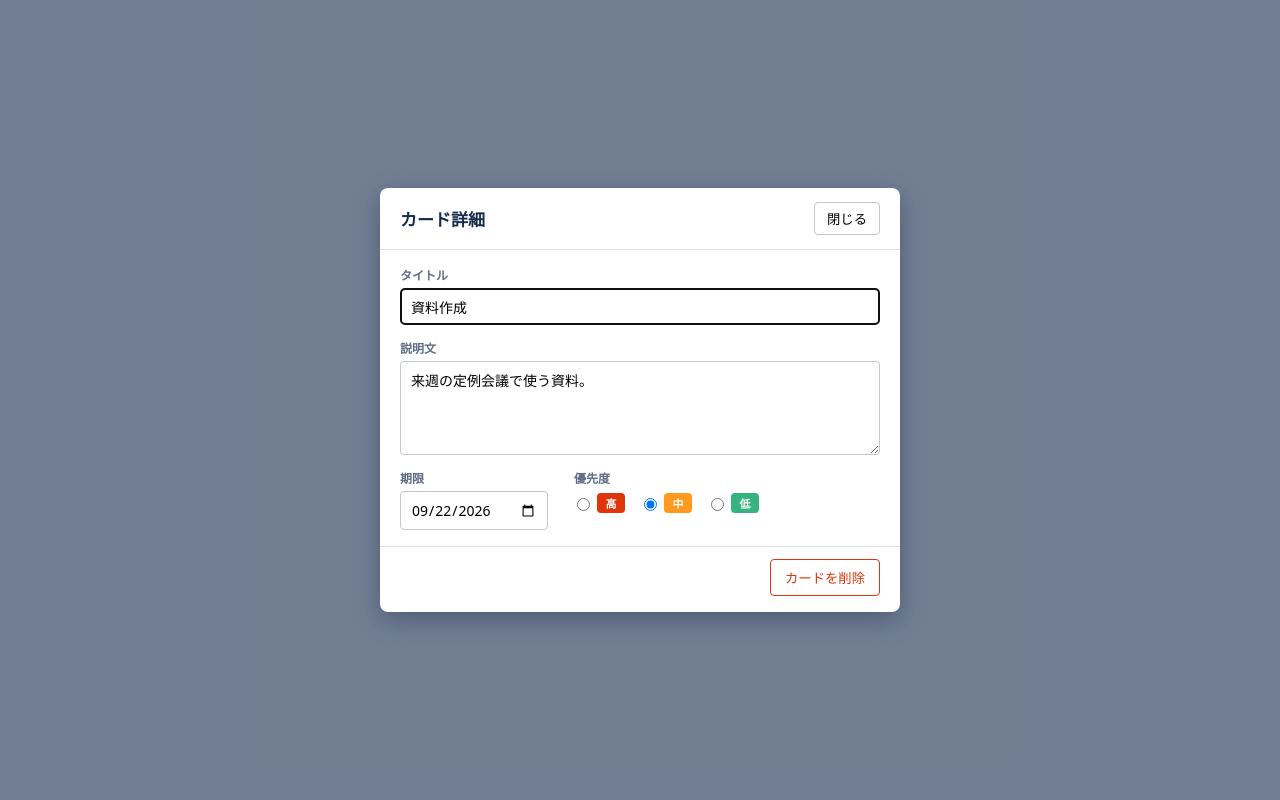
Scenario: CardDetail › 400 のときは API の detail をそのまま表示する
Type "x" into the field labelled "タイトル" at (640, 306), box [400,288,880,325]
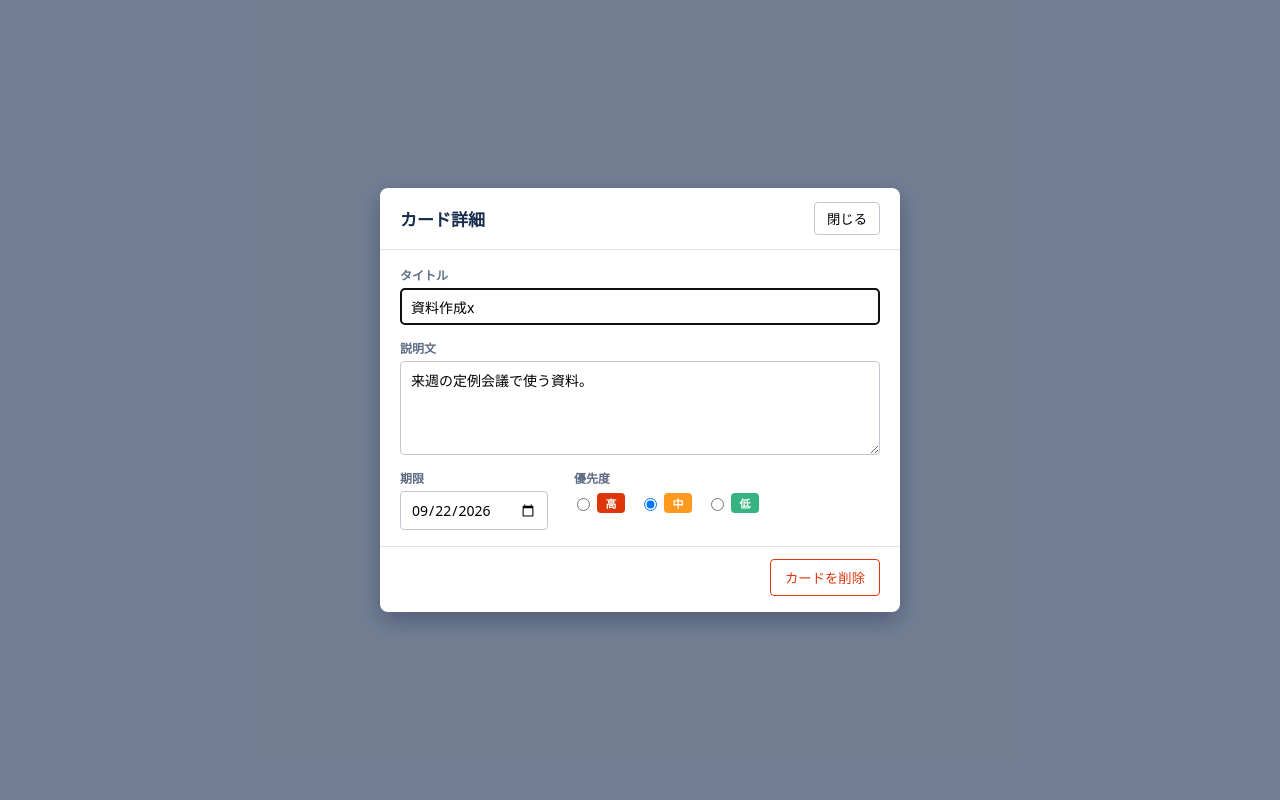
Press Tab
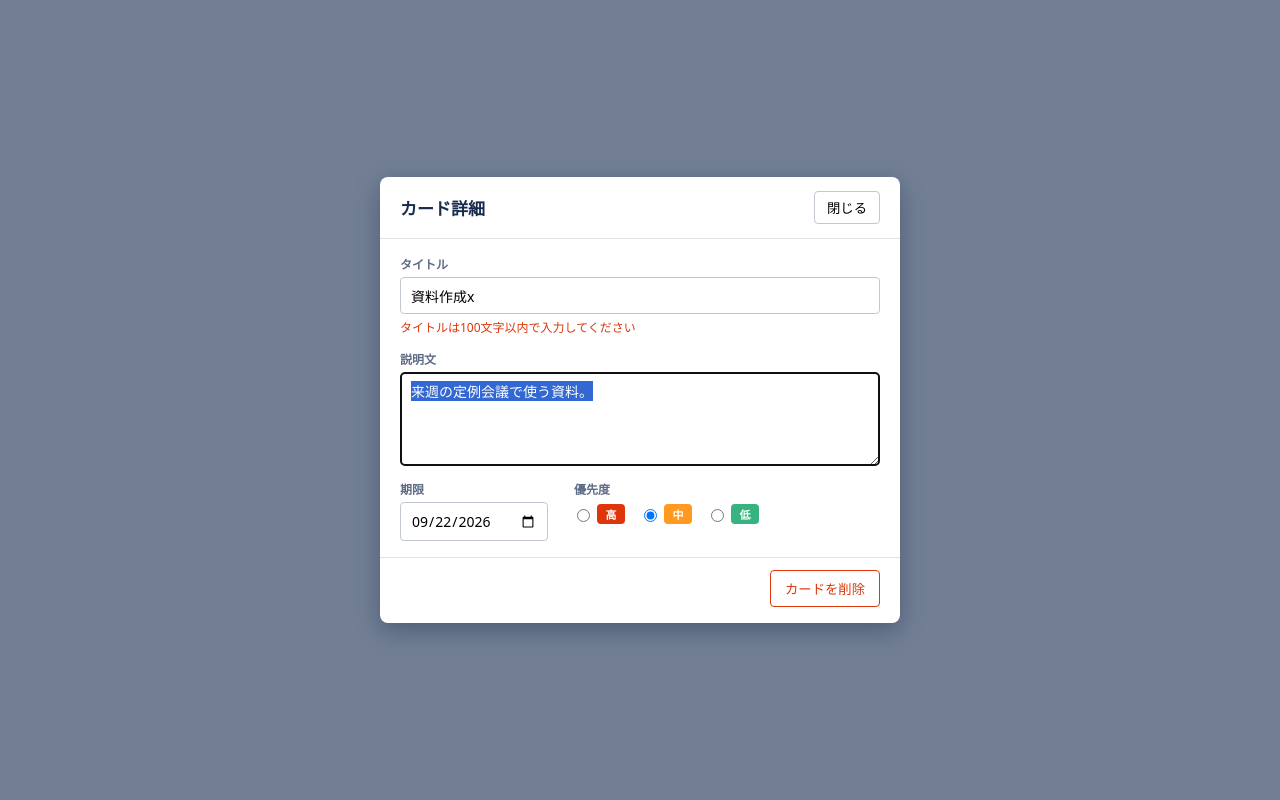
Expected: the message reads "タイトルは100文字以内で入力してください", [400,319,636,336]
